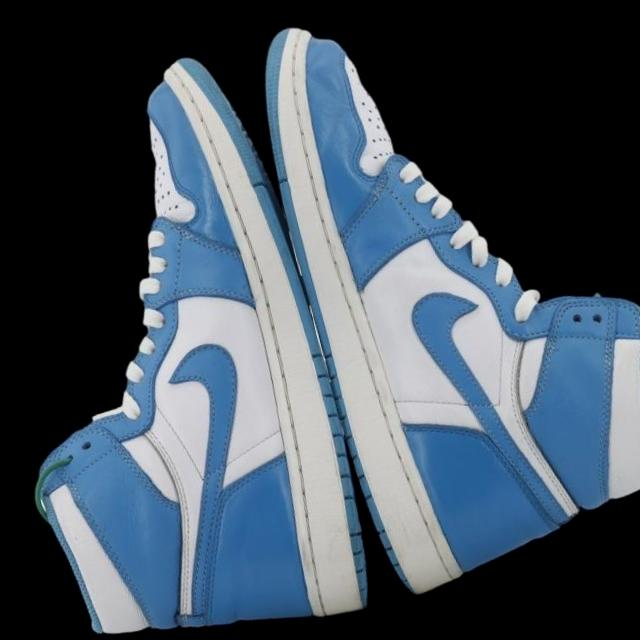nike_original_jordan: (0, 11, 394, 640), (242, 0, 640, 618)
